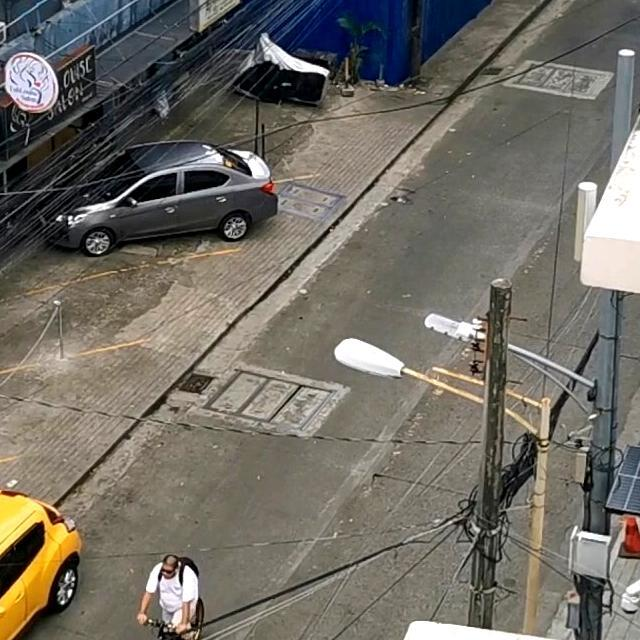Car: (31, 127, 300, 271), (0, 467, 101, 640)
